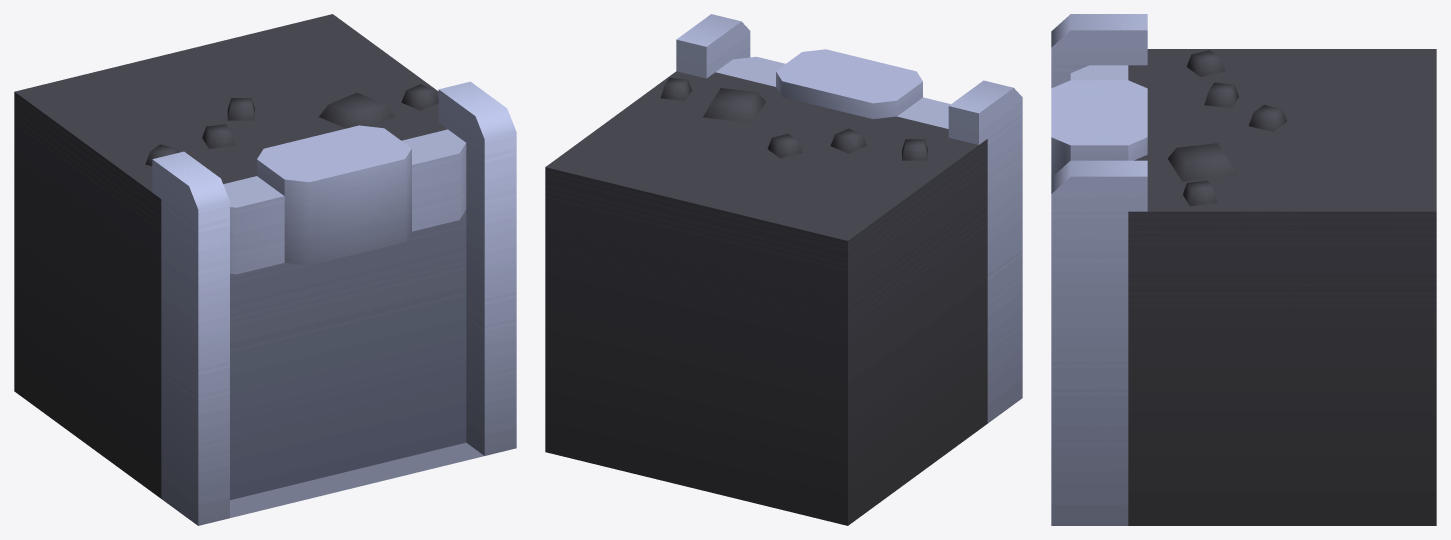
Rendered from wall-half_1.glb.
3 views of the same model, side by side, from view 1: azimuth 30°, elevation 25°; view 2: azimuth 150°, elevation 25°; view 3: azimuth 270°, elevation 25° (orthographic). The views are drawn at different scales.
Parts seen in each view (by area): view 1: wall-half; view 2: wall-half; view 3: wall-half.
Part boxes in pixels (bbox=[...]): wall-half: bbox=[14, 14, 516, 525]; wall-half: bbox=[545, 14, 1022, 525]; wall-half: bbox=[1051, 14, 1436, 525].
Size of the model in its own units: 1 by 1 by 1.
Materials: 1 (1 with a texture image).
